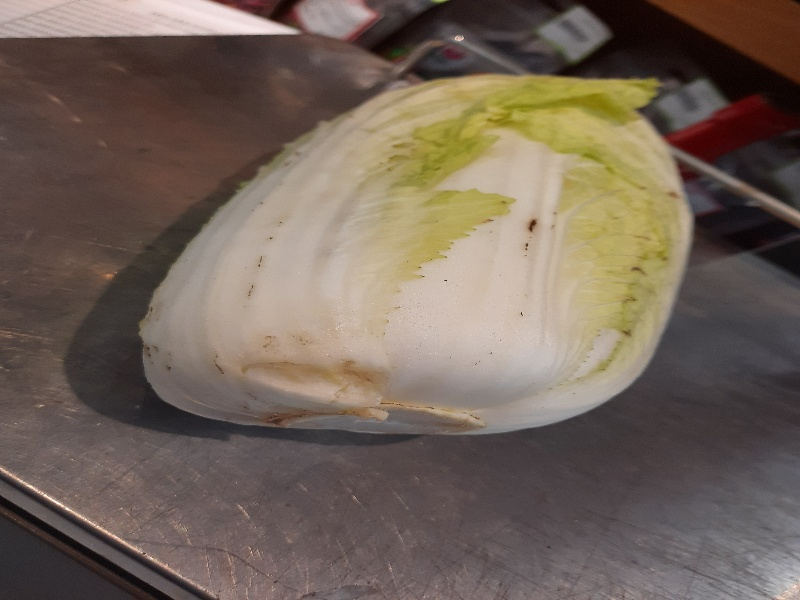vege: (136, 66, 701, 443)
